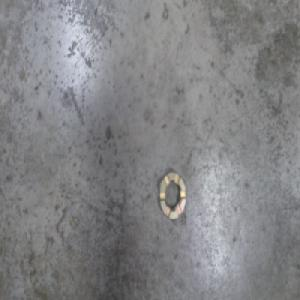Nut: (157, 167, 186, 223)
